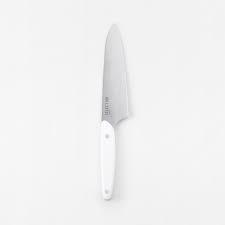Knife: (99, 23, 129, 200)
